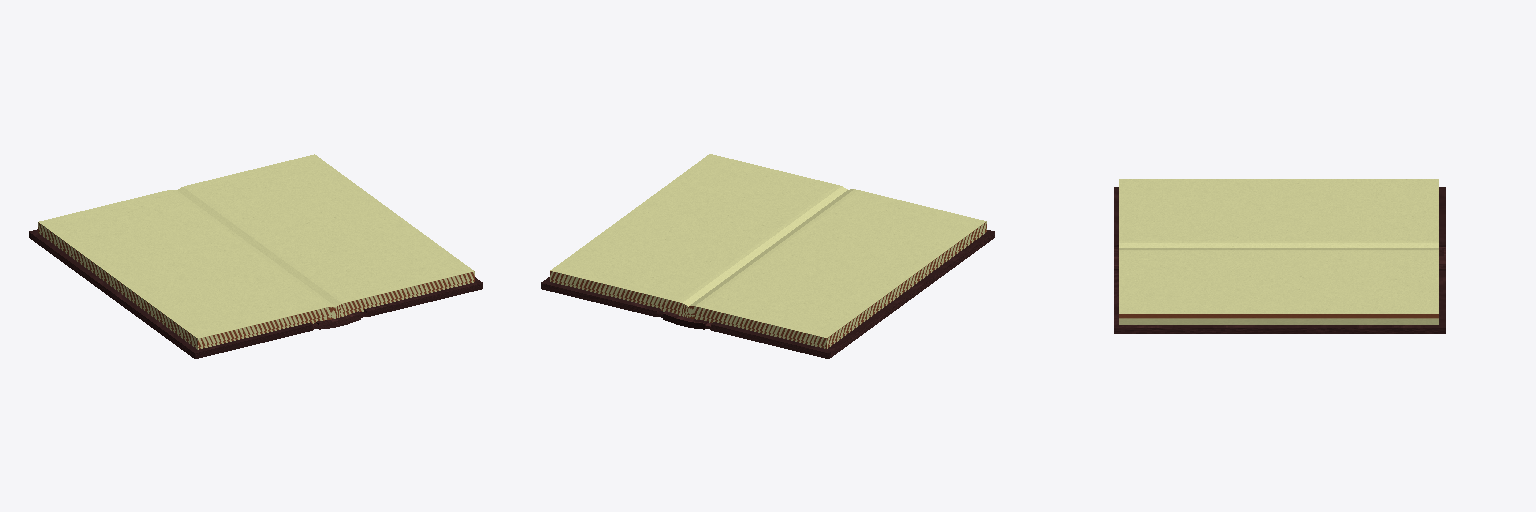
3 renders of one model, left to right at view 1: azimuth 30°, elevation 25°; view 2: azimuth 150°, elevation 25°; view 3: azimuth 270°, elevation 25°, orthographic.
Visible parts, largest first — view 1: Cube.001, Cube; view 2: Cube.001, Cube; view 3: Cube.001, Cube.
Part boxes in pixels (bbox=[...]): Cube.001: bbox=[38, 154, 474, 349]; Cube: bbox=[29, 229, 482, 358]; Cube.001: bbox=[550, 154, 986, 348]; Cube: bbox=[541, 230, 994, 358]; Cube.001: bbox=[1119, 179, 1438, 324]; Cube: bbox=[1114, 187, 1445, 333].
Bounding box in the file's own units: 10 × 0.6454 × 10.
Materials: 2 (2 with a texture image).